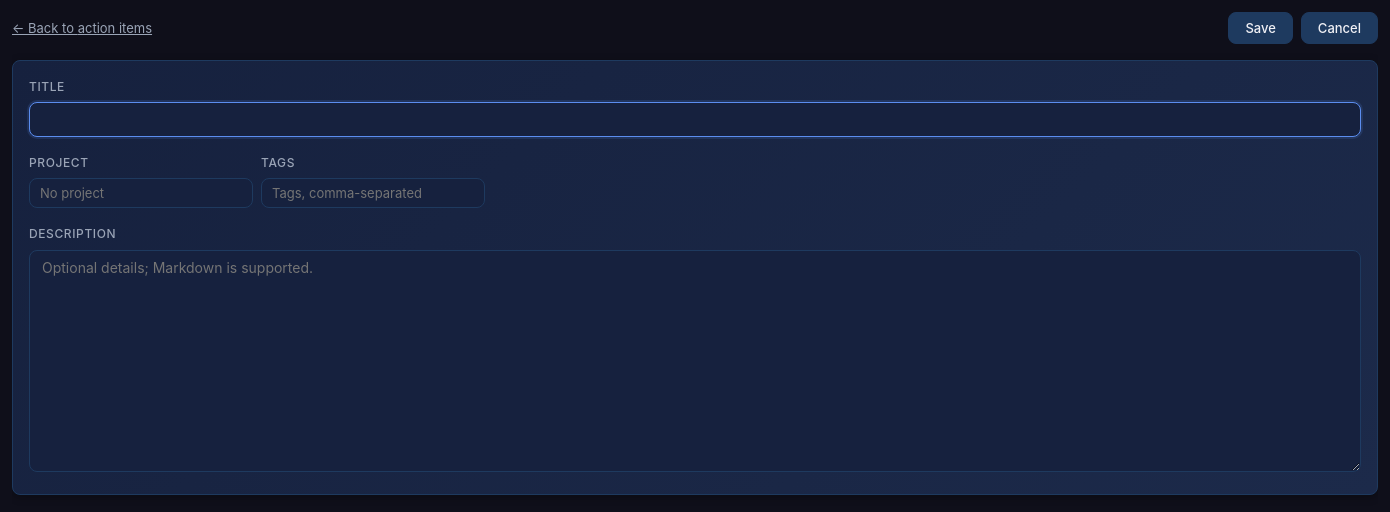
Test: ActionItemDetailPage › opens the saved resource in view mode after a real new-to-detail route transition
Type "Created task" into the field labelled "Title" at [695, 120], box [29,102,1361,137]
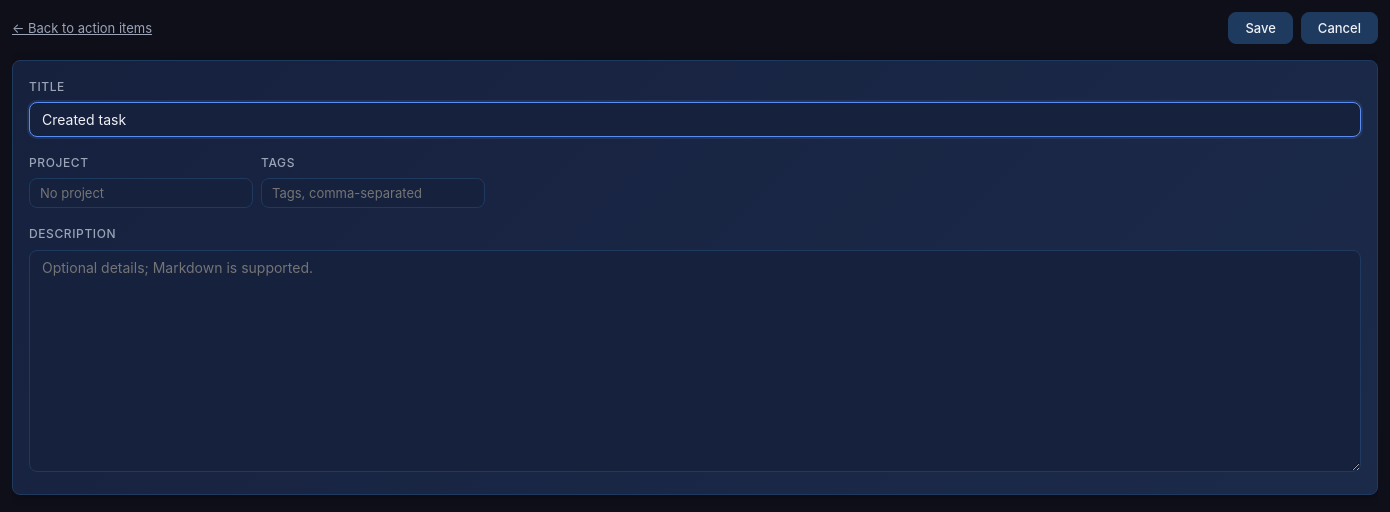
Click the button "Save" at [1261, 28], box [1228,12,1293,44]
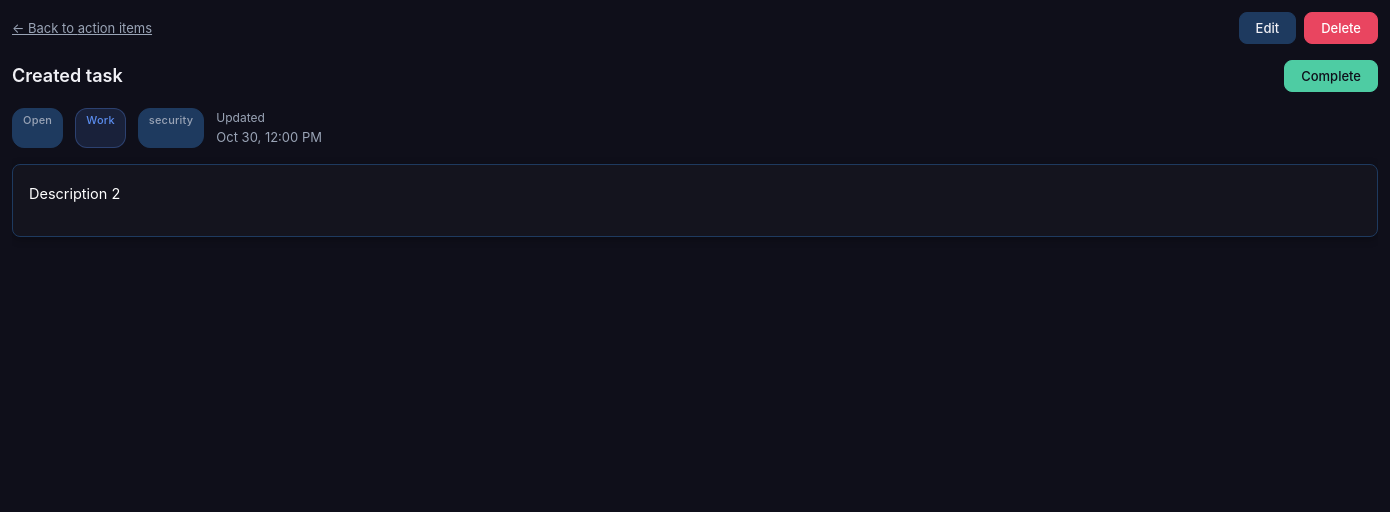
Result: the heading "Created task" is shown at [12,62,123,90]
Result: the button "Edit" is enabled at [1238,12,1296,44]
Result: the label labelled "Title" is gone
